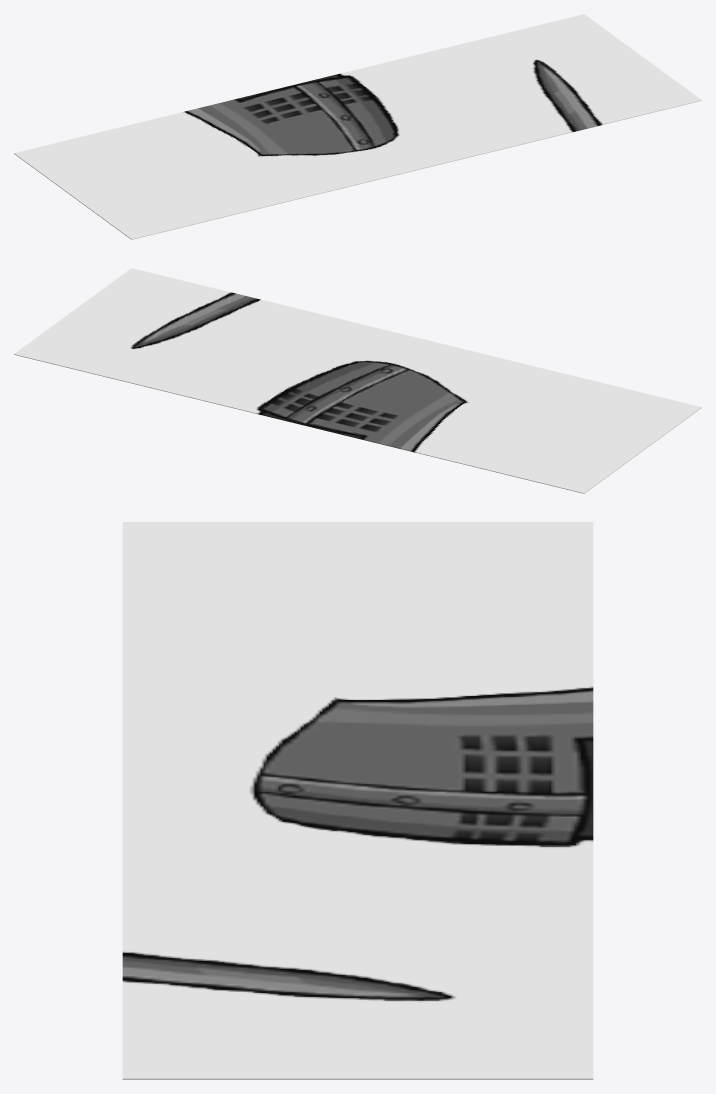
The model's file is Level 170 roll uncle sam hat.fbx.
3 views of the same model, one above another, from view 1: azimuth 30°, elevation 25°; view 2: azimuth 150°, elevation 25°; view 3: azimuth 270°, elevation 25° (orthographic). The views are drawn at different scales.
Visible parts, largest first — view 1: Blend; view 2: Blend; view 3: Blend.
Boxes of the visible parts, x1,y1,x2,y2 form: Blend: (14,14,701,239); Blend: (14,268,701,493); Blend: (122,522,593,1079).
Size of what is drawn, in the model's own units: 992 by 1 by 354.
